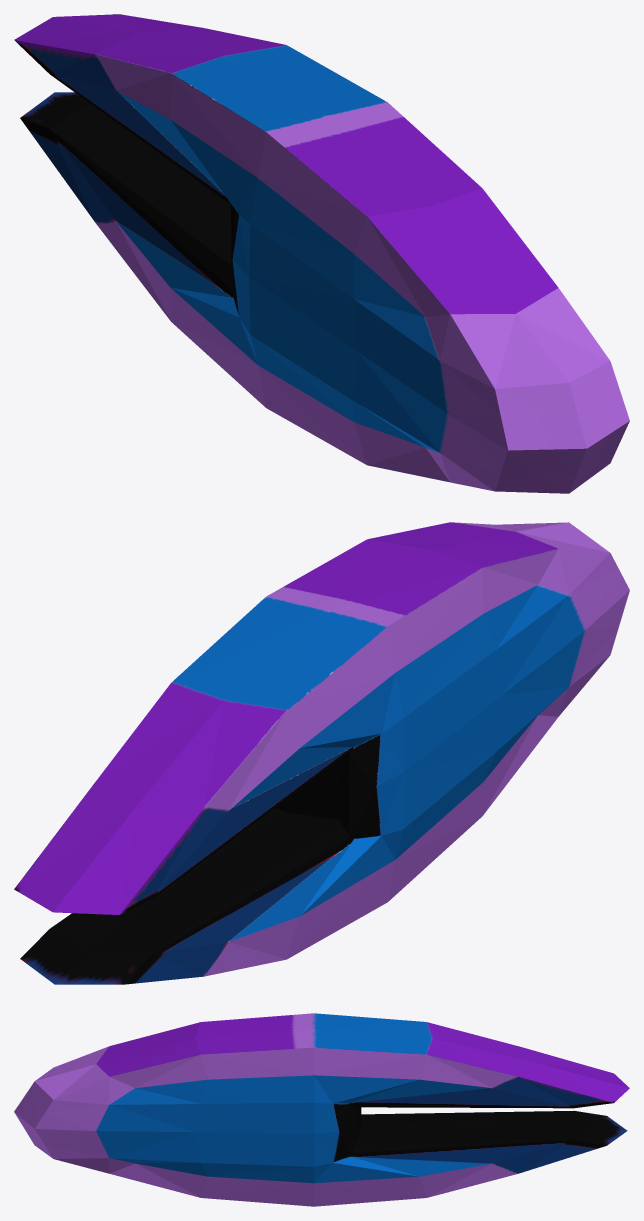
Rendered from Funnel.obj.
The picture shows the model from 3 angles, top to bottom: view 1: azimuth 30°, elevation 25°; view 2: azimuth 150°, elevation 25°; view 3: azimuth 270°, elevation 25°; orthographic projection. The views are drawn at different scales.
Parts seen in each view (by area): view 1: 立方体; view 2: 立方体; view 3: 立方体.
Boxes of the visible parts, <box> form: 立方体: <box>14,14,629,493</box>; 立方体: <box>14,522,629,984</box>; 立方体: <box>14,1013,629,1206</box>.
Size of the model in its own units: 0.2901 by 0.5196 by 1.72.
1 material, 1 textured.
